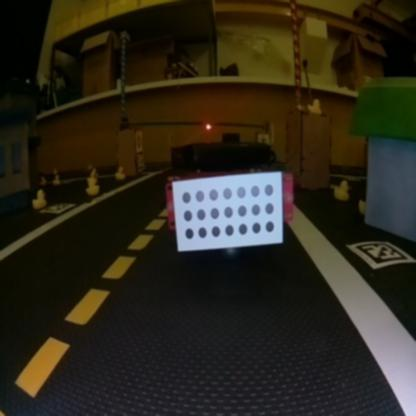duckie: (27, 184, 53, 218), (331, 170, 351, 210), (306, 92, 323, 118), (113, 158, 129, 184)
duckiebot: (159, 130, 298, 269)
